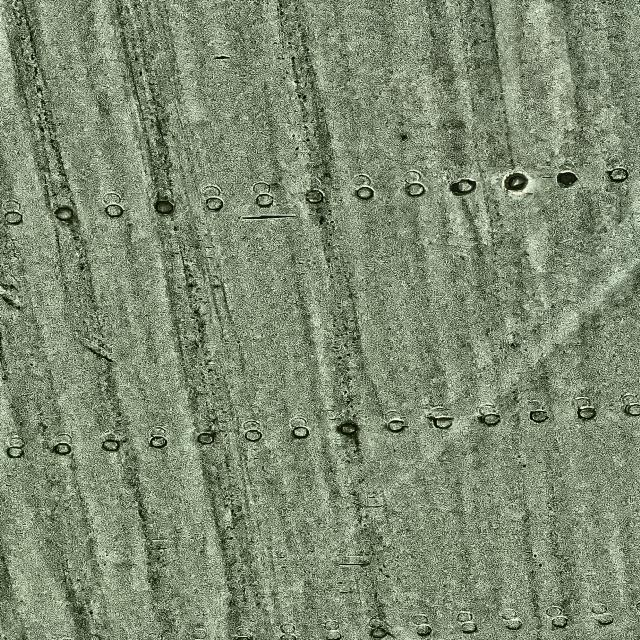crack: (244, 211, 292, 230), (211, 53, 231, 62)
